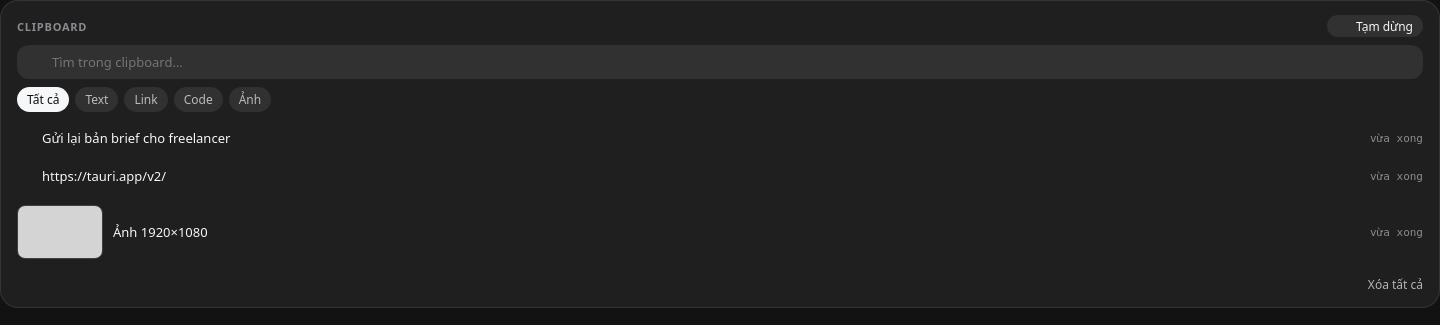
Test: ClipboardCard › copies an item back and flashes the row
Step 1. Click the button titled "Gửi lại bản brief cho freelancer" → {"x": 136, "y": 138}, box [9, 120, 1431, 156]
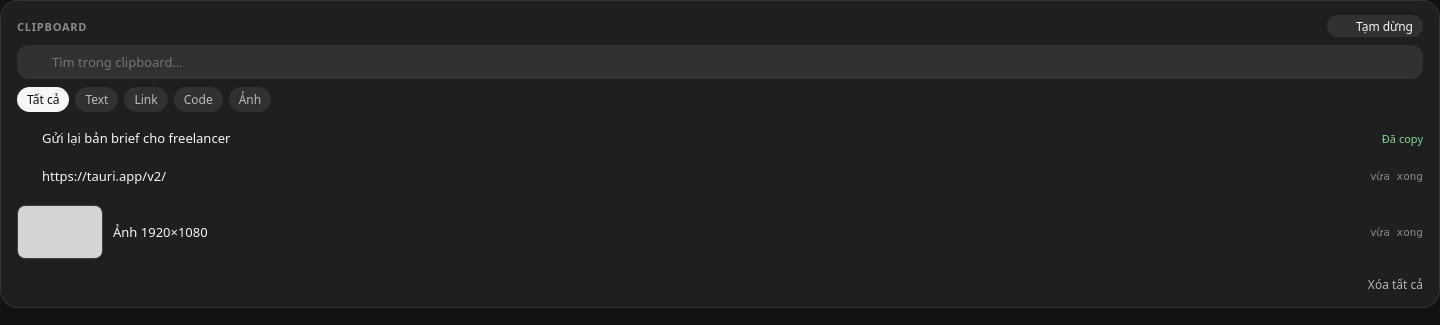
expect the text "Đã copy" is shown: met, box [1382, 130, 1423, 146]
